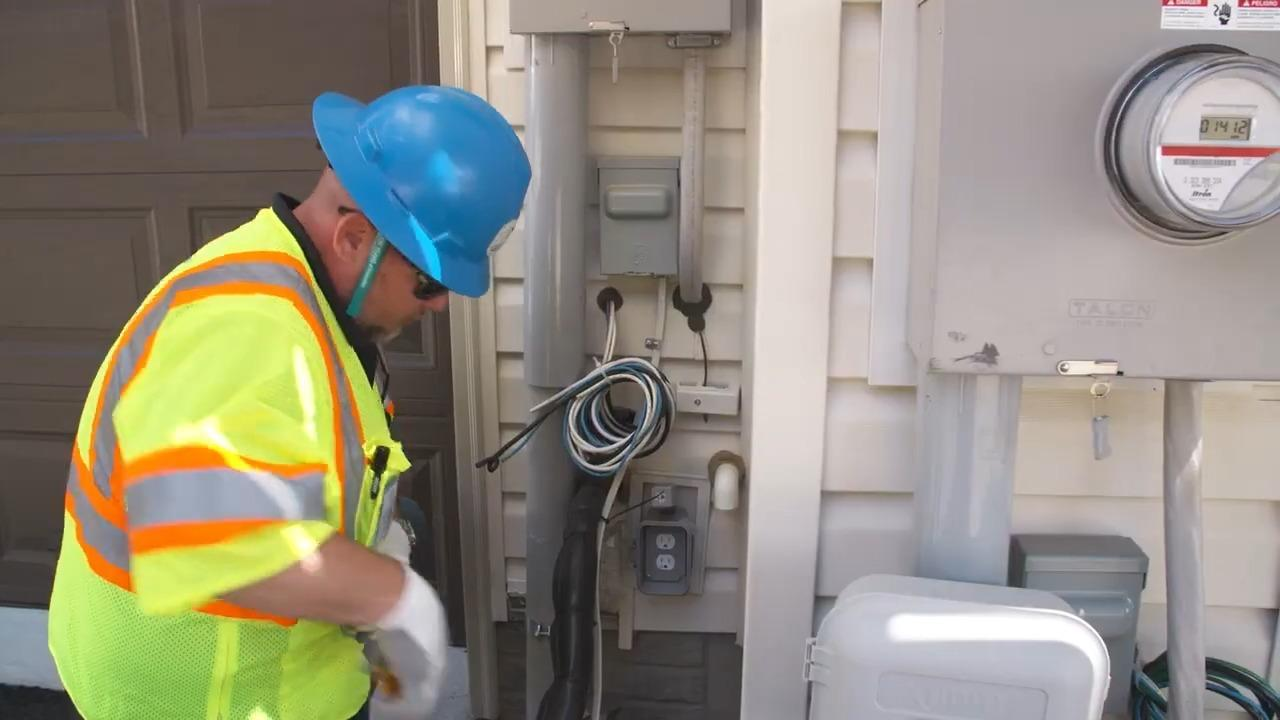Gloves: (367, 571, 458, 720)
Helmet: (314, 86, 532, 301)
Person: (39, 84, 533, 720)
Safety Vest: (42, 248, 422, 720)
